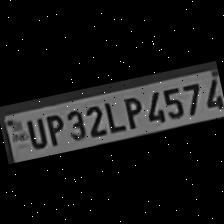2: (81, 102, 107, 138)
3: (60, 106, 86, 142)
4: (138, 87, 165, 126), (196, 75, 223, 112)
5: (158, 82, 184, 120)
7: (178, 78, 203, 116)
L: (100, 96, 124, 134)
P: (117, 90, 145, 130), (42, 110, 68, 146)
U: (22, 113, 47, 150)
